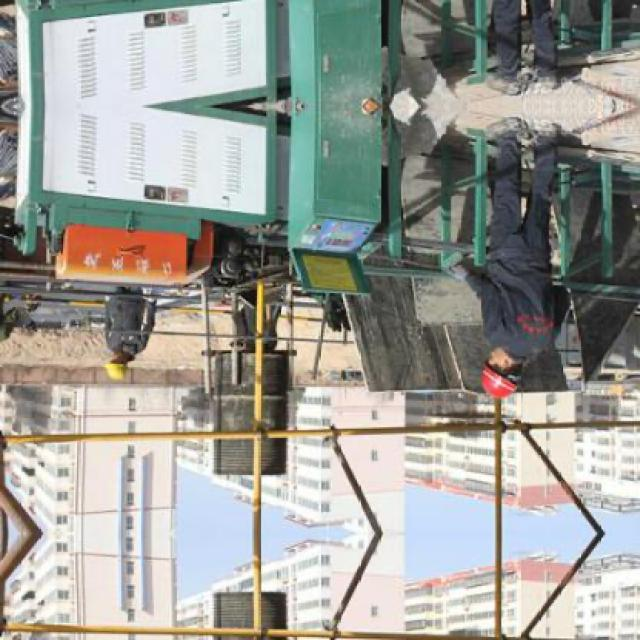con casco: (476, 340, 546, 414), (104, 344, 150, 387)
